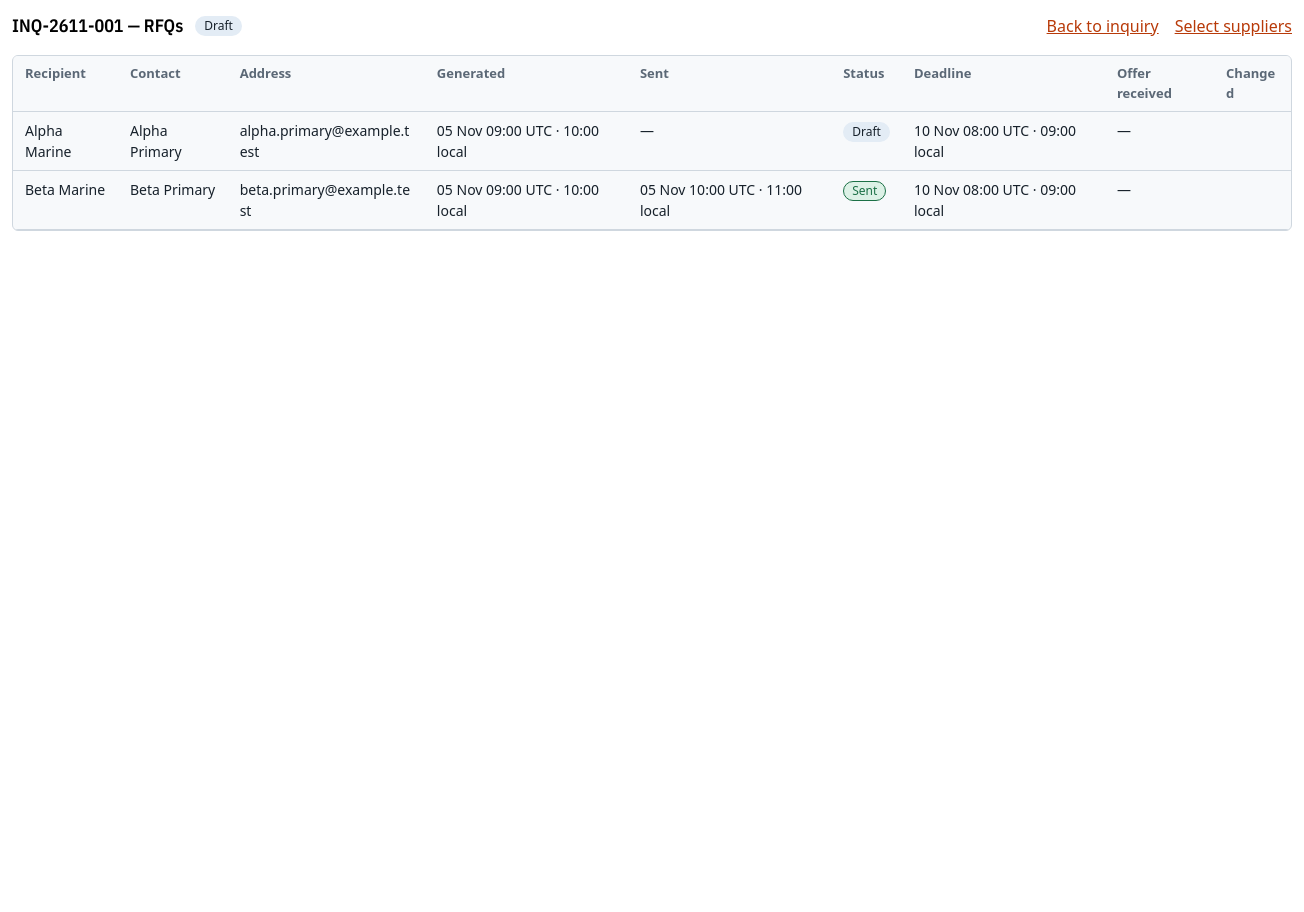
Test: RfqLog › [B3-R13] a stale version toasts the conflict and reloads
This screenshot has width=1304, height=912.
Click the cell "Alpha Marine".
click(65, 141)  # box [13,112,118,170]
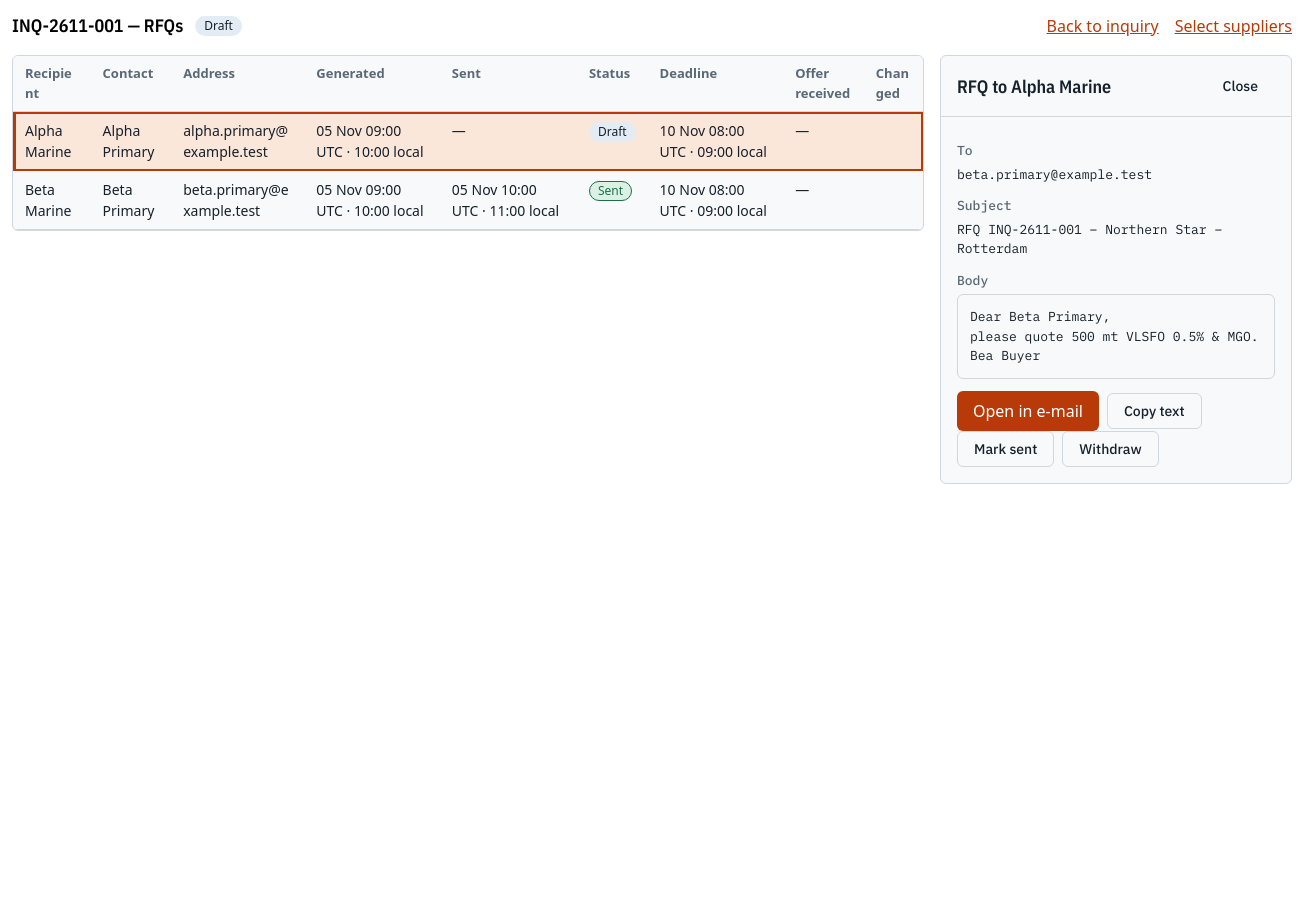
Click the button "Mark sent".
click(1006, 448)  # box [957,430,1054,466]
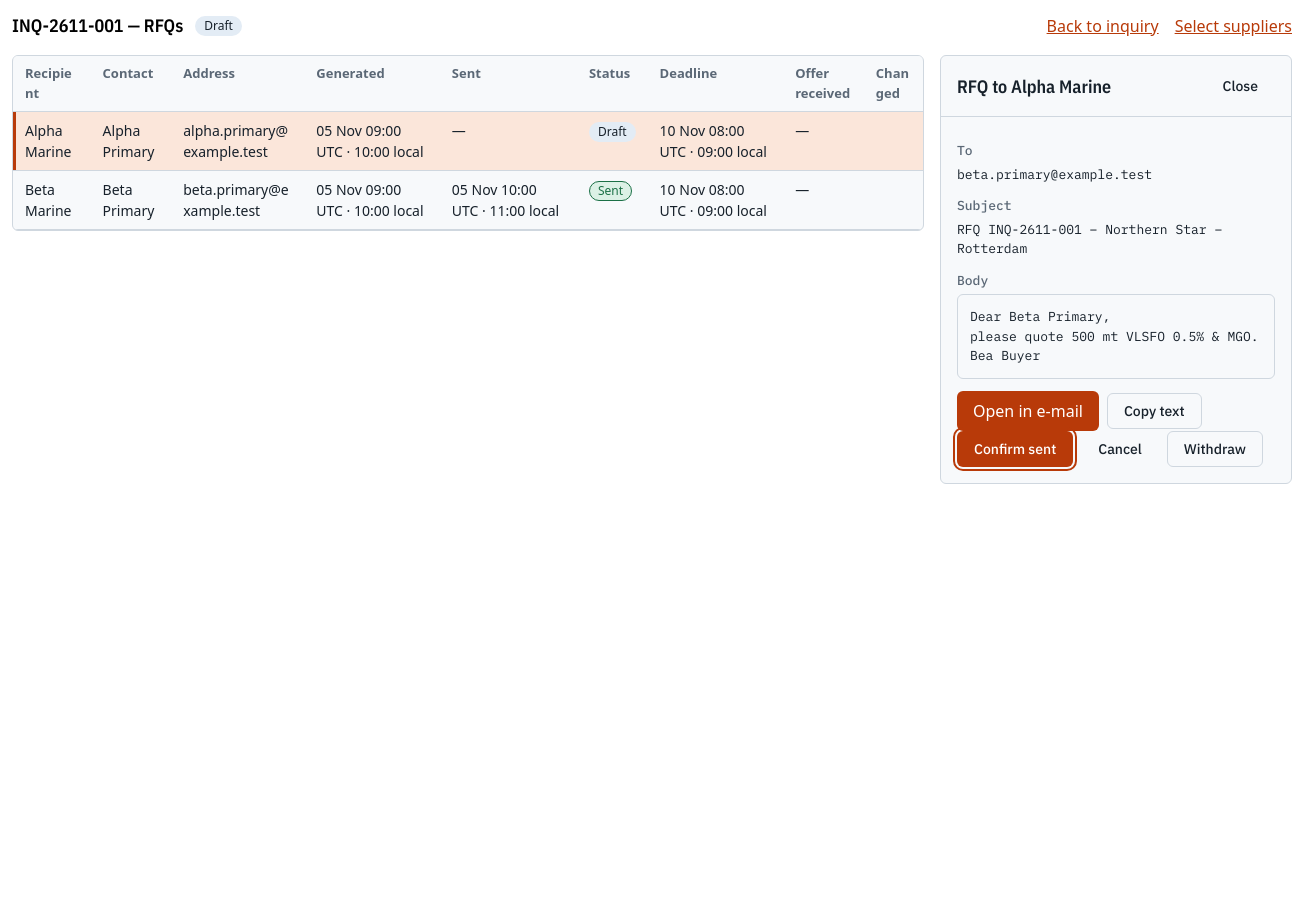
Click the button "Confirm sent".
click(1015, 448)  # box [957,430,1073,466]
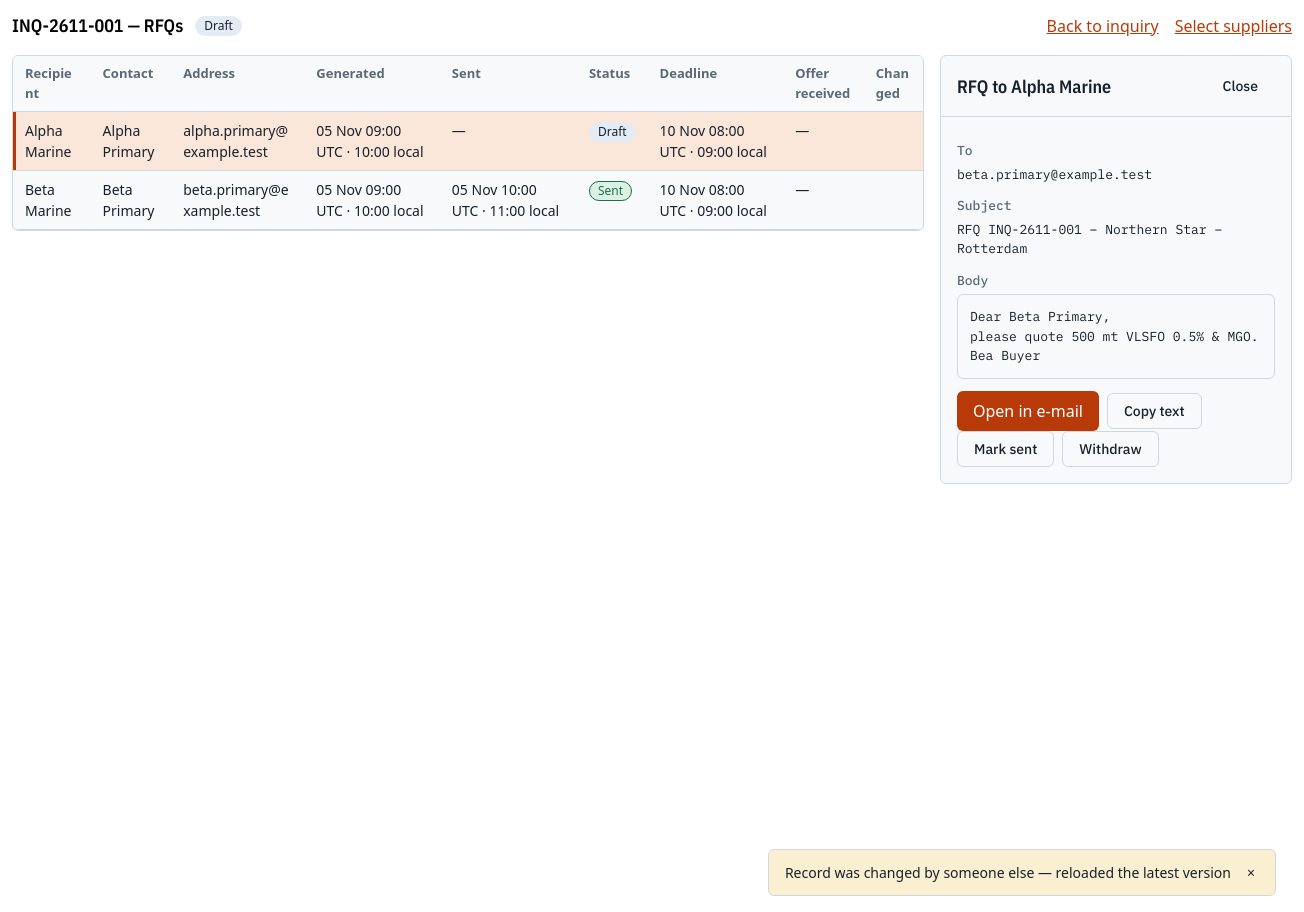
Expected: the text "changed by someone else" is shown, [785,863,1231,882]
